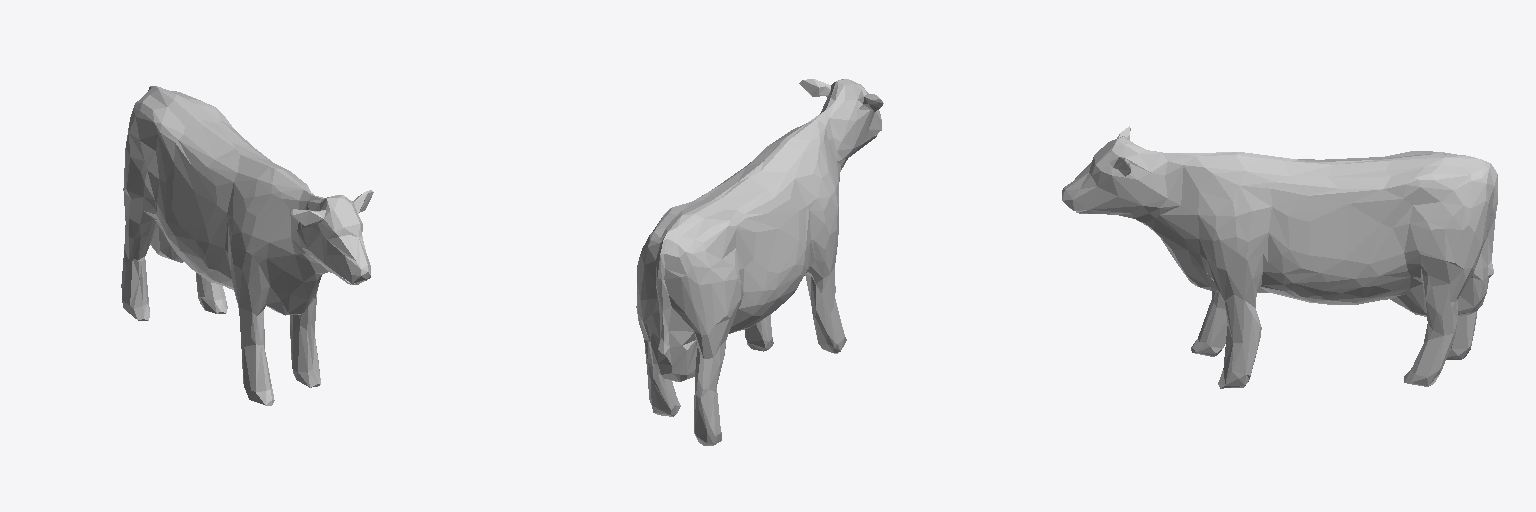
The model's file is step10.obj.
3 renders of one model, left to right at view 1: azimuth 30°, elevation 25°; view 2: azimuth 150°, elevation 25°; view 3: azimuth 270°, elevation 25°, orthographic.
Parts seen in each view (by area): view 1: Cow:cow; view 2: Cow:cow; view 3: Cow:cow.
Part boxes in pixels (left/top/right/bottom): Cow:cow: left=121, top=86, right=373, bottom=405; Cow:cow: left=636, top=79, right=883, bottom=445; Cow:cow: left=1062, top=126, right=1497, bottom=388.
Size of the model in its own units: 4.58 by 11.61 by 19.59.